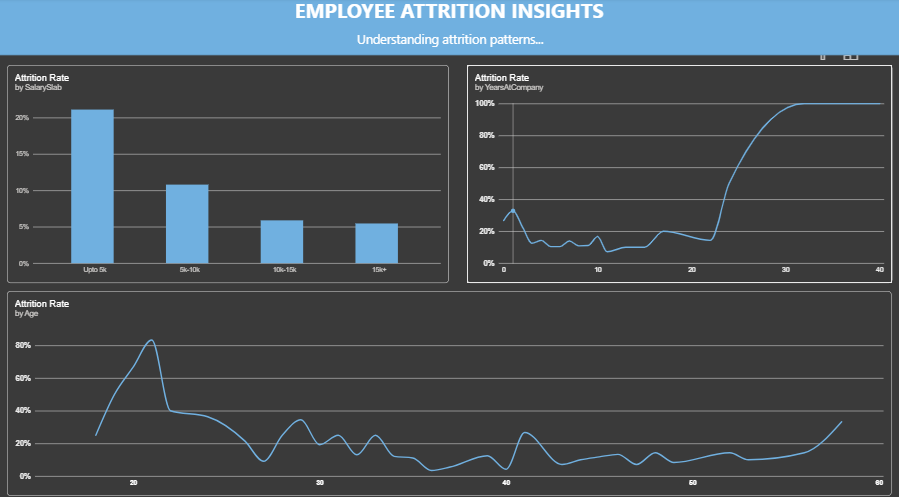

The page's visual inventory and layout, read from the dashboard file:
{"tool":"powerbi","page":{"name":"Attrition Trends","canvas":[1920,1080],"ordinal":2},"visuals":[{"type":"lineChart","fields":{"Category":["HR_anlytics.Age"],"Y":["HR_anlytics.Attrition Rate"]},"box":[20.2,627.4,1882.2,435.9],"z":3},{"type":"clusteredColumnChart","fields":{"Category":["HR_anlytics.SalarySlab"],"Y":["HR_anlytics.Attrition Rate"]},"box":[20.2,146.1,939.8,463.6],"z":7},{"type":"lineChart","fields":{"Category":["HR_anlytics.YearsAtCompany"],"Y":["HR_anlytics.Attrition Rate"]},"box":[997.8,146.1,904.6,463.6],"z":8},{"type":"shape","box":[0,0,1920,126],"z":9},{"type":"textbox","box":[0,0,1920,126],"z":10}]}

Visuals, with their boxes in screenshot pixels (x1, y1, x2, y2), scaled from the page's 1920x1080 canvas onto the 899x497 screenshot:
lineChart - HR_anlytics.Age x HR_anlytics.Attrition Rate: Rect(9, 289, 891, 489)
clusteredColumnChart - HR_anlytics.SalarySlab x HR_anlytics.Attrition Rate: Rect(9, 67, 450, 281)
lineChart - HR_anlytics.YearsAtCompany x HR_anlytics.Attrition Rate: Rect(467, 67, 891, 281)
shape: Rect(0, 0, 898, 58)
textbox: Rect(0, 0, 898, 58)
